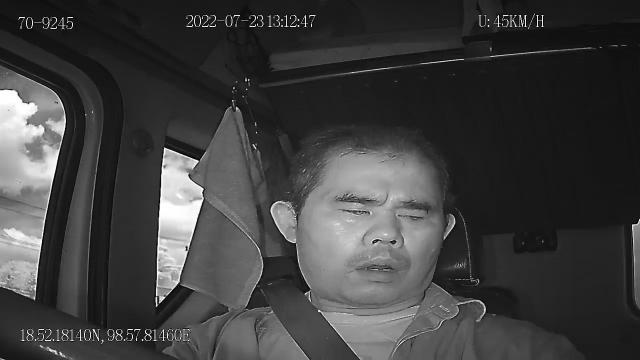SafeDriving: (331, 195, 380, 223), (390, 201, 434, 227)
Seatbelt: (258, 278, 364, 360)
